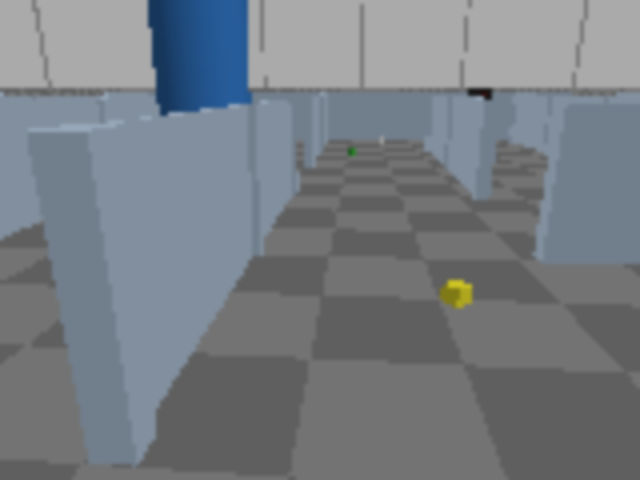puck: (441, 279, 473, 309)
